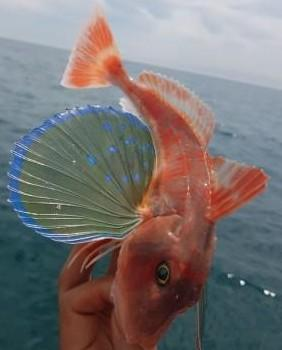fish: (8, 16, 269, 345)
